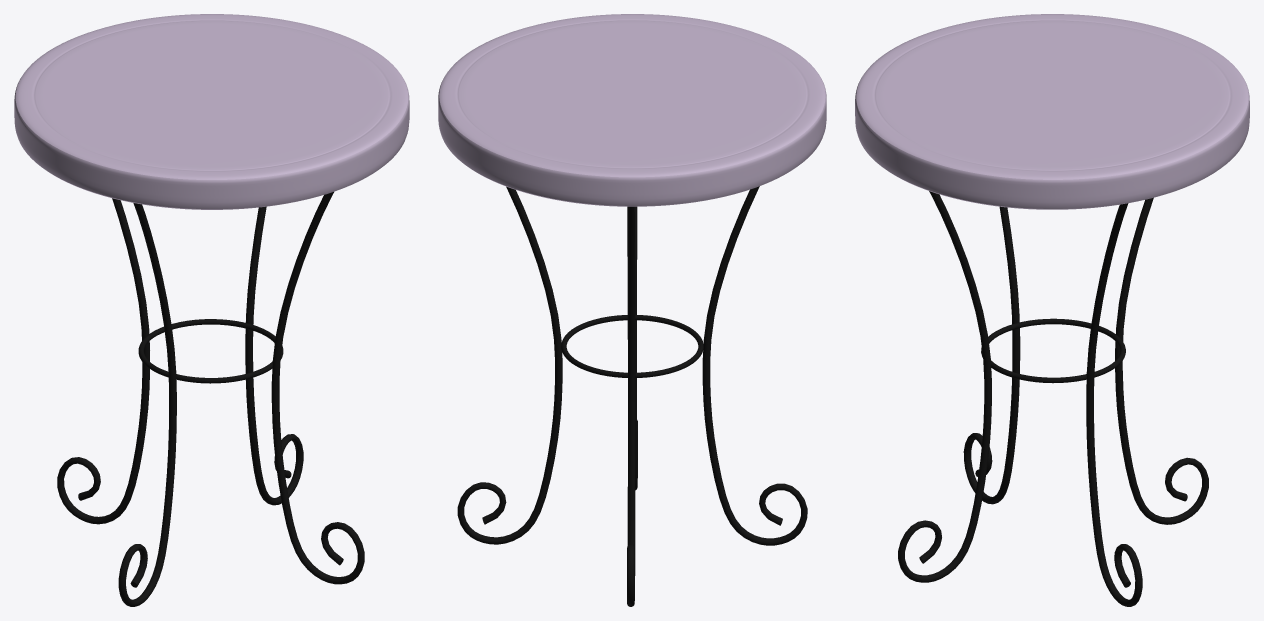
The model's file is roundTable2.obj.
3 views of the same model, side by side, from view 1: azimuth 30°, elevation 25°; view 2: azimuth 150°, elevation 25°; view 3: azimuth 270°, elevation 25° (orthographic).
Parts seen in each view (by area): view 1: RoundTable_revolvedSurface2detachedSurface2_8, RoundTable_revolvedSurface2detachedSurface4_9, RoundTable_JillLeg1_1, RoundTable_JillLeg4_5, RoundTable_JillLeg2_3, RoundTable_JillLeg3_4, RoundTable_Ring_2; view 2: RoundTable_revolvedSurface2detachedSurface2_8, RoundTable_revolvedSurface2detachedSurface4_9, RoundTable_JillLeg4_5, RoundTable_JillLeg3_4, RoundTable_JillLeg2_3, RoundTable_Ring_2, RoundTable_JillLeg1_1; view 3: RoundTable_revolvedSurface2detachedSurface2_8, RoundTable_revolvedSurface2detachedSurface4_9, RoundTable_JillLeg1_1, RoundTable_JillLeg3_4, RoundTable_JillLeg2_3, RoundTable_JillLeg4_5, RoundTable_Ring_2.
Boxes of the visible parts, x1,y1,x2,y2 form: RoundTable_revolvedSurface2detachedSurface2_8: (15,14,408,179); RoundTable_revolvedSurface2detachedSurface4_9: (14,78,409,208); RoundTable_JillLeg1_1: (271,192,364,584); RoundTable_JillLeg4_5: (118,203,176,606); RoundTable_JillLeg2_3: (57,198,149,524); RoundTable_JillLeg3_4: (245,206,303,505); RoundTable_Ring_2: (138,319,283,383); RoundTable_revolvedSurface2detachedSurface2_8: (439,14,825,177); RoundTable_revolvedSurface2detachedSurface4_9: (438,78,826,205); RoundTable_JillLeg4_5: (702,186,807,545); RoundTable_JillLeg3_4: (457,186,562,544); RoundTable_JillLeg2_3: (627,206,635,606); RoundTable_Ring_2: (561,315,703,377); RoundTable_JillLeg1_1: (634,206,637,490); RoundTable_revolvedSurface2detachedSurface2_8: (856,14,1248,179); RoundTable_revolvedSurface2detachedSurface4_9: (855,77,1249,208); RoundTable_JillLeg1_1: (898,191,991,582); RoundTable_JillLeg3_4: (1086,203,1142,606); RoundTable_JillLeg2_3: (1115,197,1208,524); RoundTable_JillLeg4_5: (963,206,1020,504); RoundTable_Ring_2: (981,318,1125,383).
Bounding box in the file's own units: 53.81 × 68.81 × 53.81.
